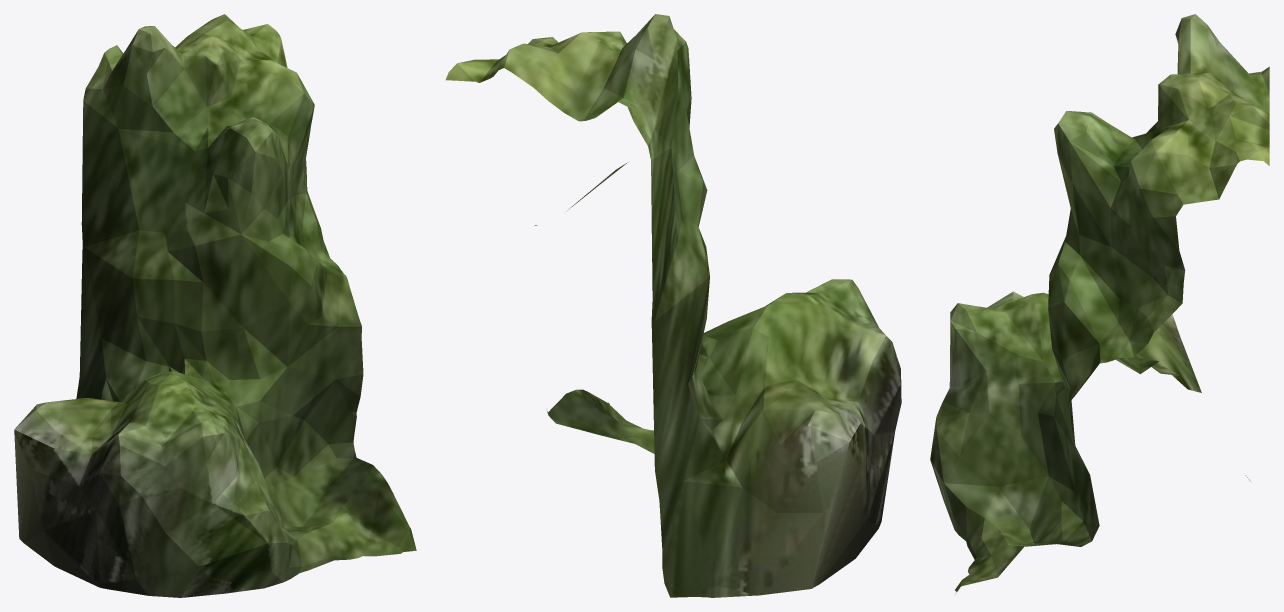
3 renders of one model, left to right at view 1: azimuth 30°, elevation 25°; view 2: azimuth 150°, elevation 25°; view 3: azimuth 270°, elevation 25°, orthographic. The views are drawn at different scales.
Size of the model in its own units: 1.42 by 2.12 by 1.3.
Materials: 2 (2 with a texture image).
